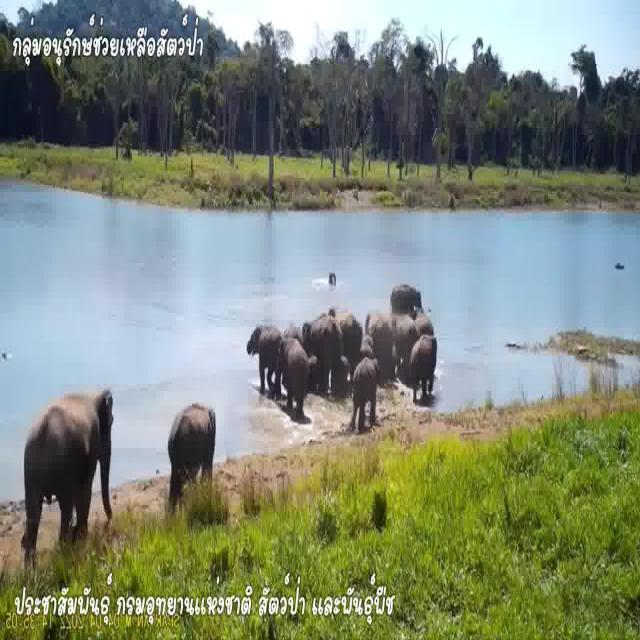Elephant: (32, 377, 118, 506), (166, 399, 217, 470), (244, 320, 280, 382), (276, 341, 318, 393), (409, 337, 440, 398), (349, 357, 379, 417), (368, 305, 393, 363), (411, 296, 438, 339)
